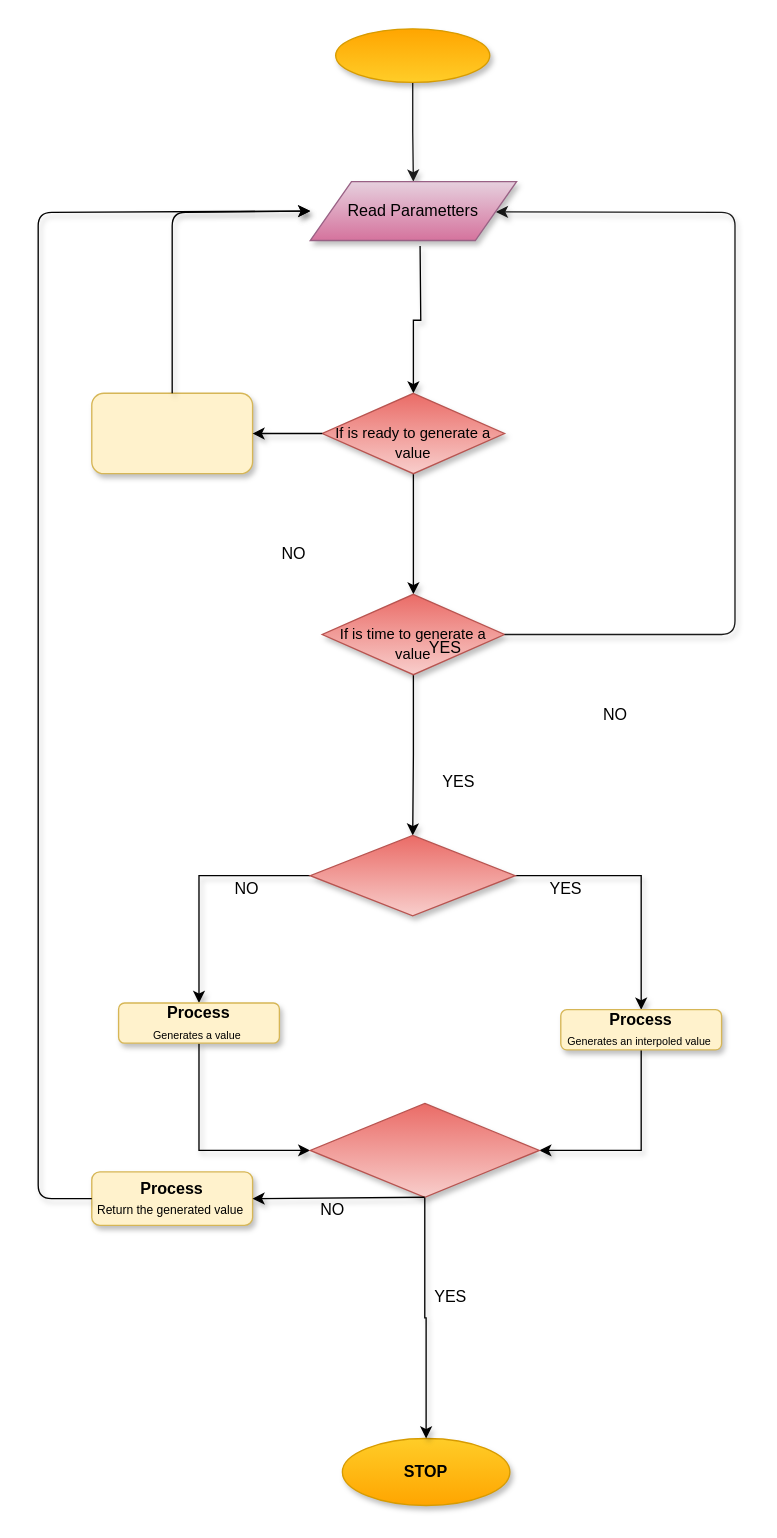
The diagram is 777 pixels wide and 1538 high, and some of its shapes have lost their labels. The shapes that lost their labels are listed below. From the top down, each one's centre as x and y in pixels, then its label:
At [413,57]: "START".
At [173,435]: "Process Calculates some variables that are needed in the algorithm".
At [413,877]: "If it needs to generate a n interpolated value".
At [425,1152]: "If the generated value is higher then the wanted value".
